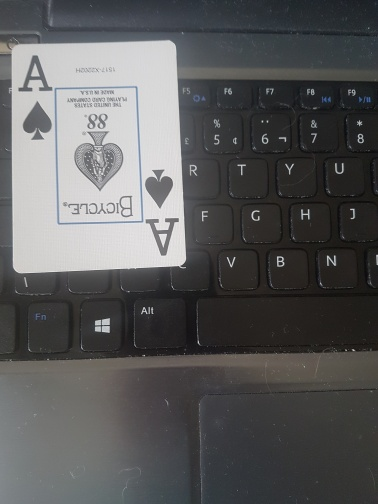ace: (11, 41, 186, 275)
